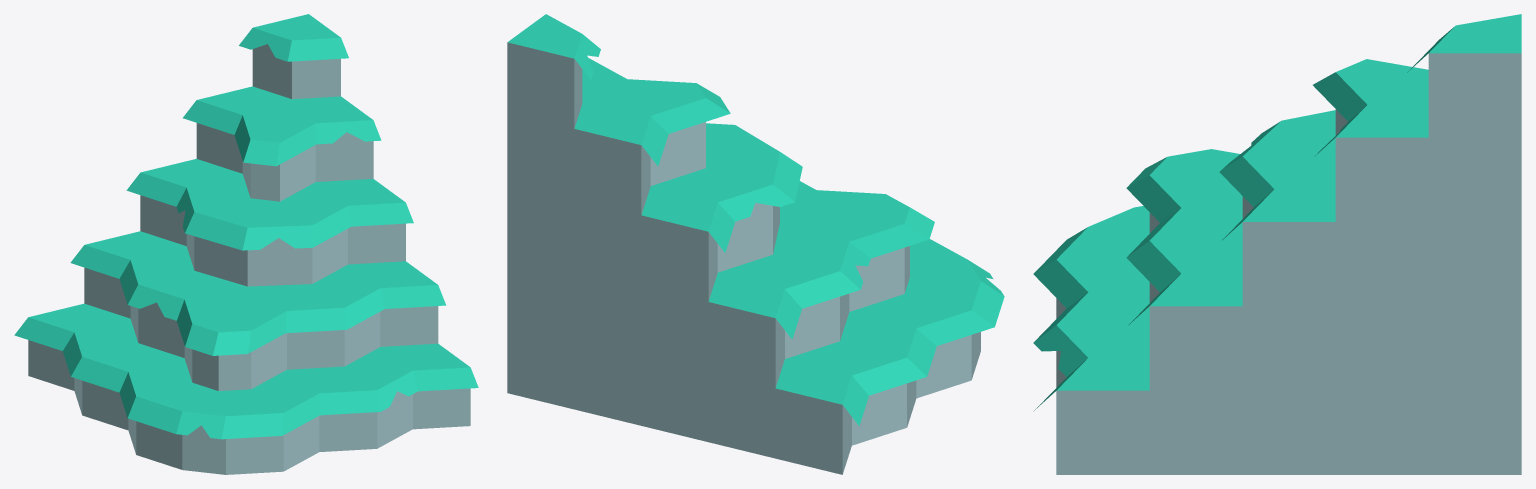
The model's file is cliff_stepsCorner_stone.fbx.
The picture shows the model from 3 angles, left to right: view 1: azimuth 30°, elevation 25°; view 2: azimuth 150°, elevation 25°; view 3: azimuth 270°, elevation 25°; orthographic projection. The views are drawn at different scales.
Visible parts, largest first — view 1: cliff_stepsCorner_stone; view 2: cliff_stepsCorner_stone; view 3: cliff_stepsCorner_stone.
Boxes of the visible parts, x1,y1,x2,y2 form: cliff_stepsCorner_stone: [14, 14, 478, 474]; cliff_stepsCorner_stone: [507, 14, 1004, 474]; cliff_stepsCorner_stone: [1033, 14, 1521, 474].
Bounding box in the file's own units: 10.5 × 10 × 10.5.
